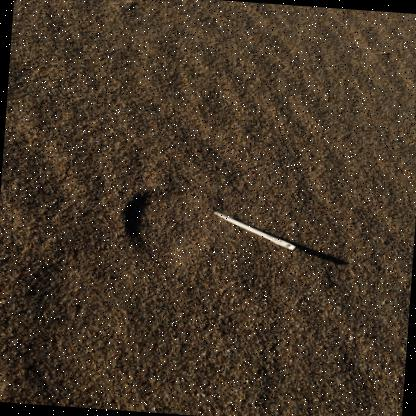Other plastic bottle: (214, 211, 296, 250)
